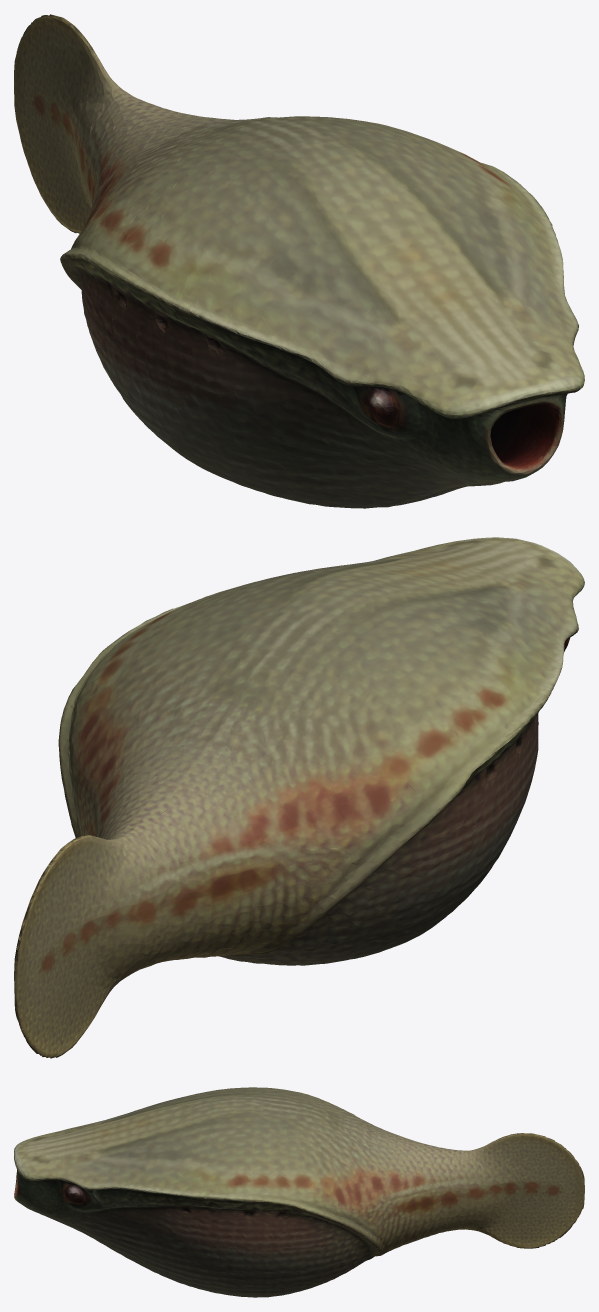
3 renders of one model, top to bottom at view 1: azimuth 30°, elevation 25°; view 2: azimuth 150°, elevation 25°; view 3: azimuth 270°, elevation 25°, orthographic. The views are drawn at different scales.
Visible parts, largest first — view 1: world; view 2: world; view 3: world.
Boxes of the visible parts, <box> form: world: <box>14,14,584,508</box>; world: <box>14,537,584,1058</box>; world: <box>14,1087,584,1297</box>.
Bounding box in the file's own units: 0.0672 × 0.053 × 0.15.
Materials: 1 (1 with a texture image).
